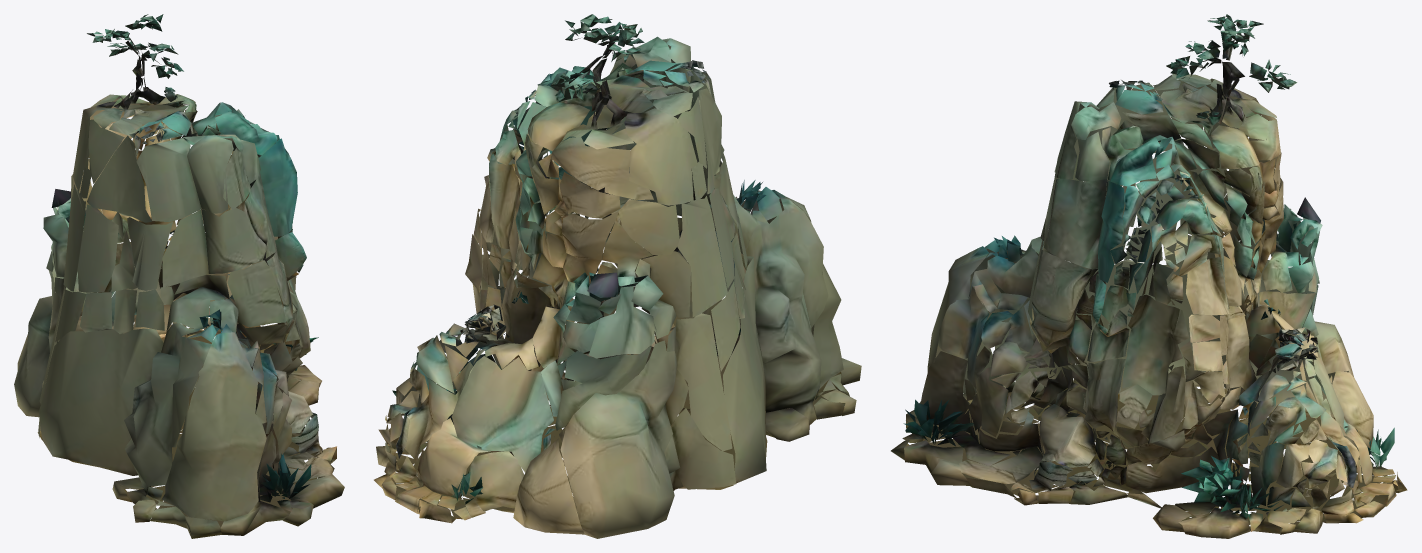
The model's file is qinglu_cliff.glb.
The picture shows the model from 3 angles, left to right: view 1: azimuth 30°, elevation 25°; view 2: azimuth 150°, elevation 25°; view 3: azimuth 270°, elevation 25°; orthographic projection. The views are drawn at different scales.
Visible parts, largest first — view 1: Qinglu cliff from Studio, battle-camera module; view 2: Qinglu cliff from Studio, battle-camera module; view 3: Qinglu cliff from Studio, battle-camera module.
Part boxes in pixels (x1,y1,x2,y2): Qinglu cliff from Studio, battle-camera module: [14, 14, 344, 538]; Qinglu cliff from Studio, battle-camera module: [374, 14, 861, 538]; Qinglu cliff from Studio, battle-camera module: [891, 14, 1407, 538].
Bounding box in the file's own units: 5.63 × 7.35 × 8.01.
1 material, 1 textured.
